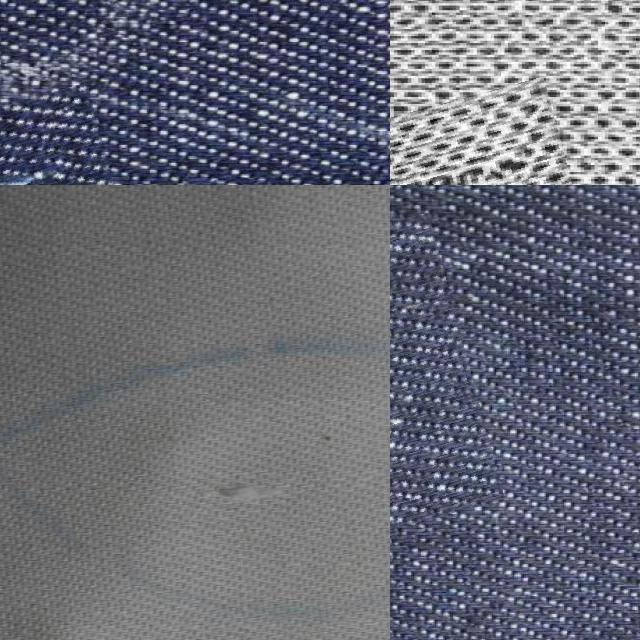stains: (390, 226, 486, 550), (390, 101, 575, 185), (0, 94, 115, 185)
